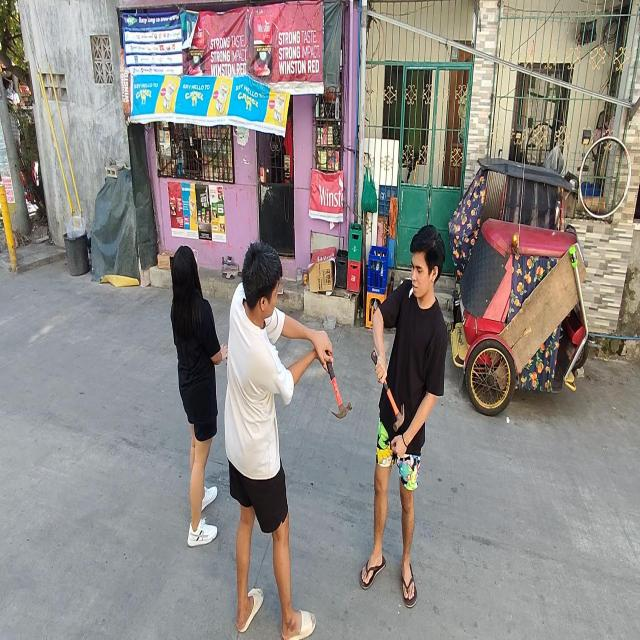hammer: (371, 349, 404, 432), (326, 349, 352, 418)
